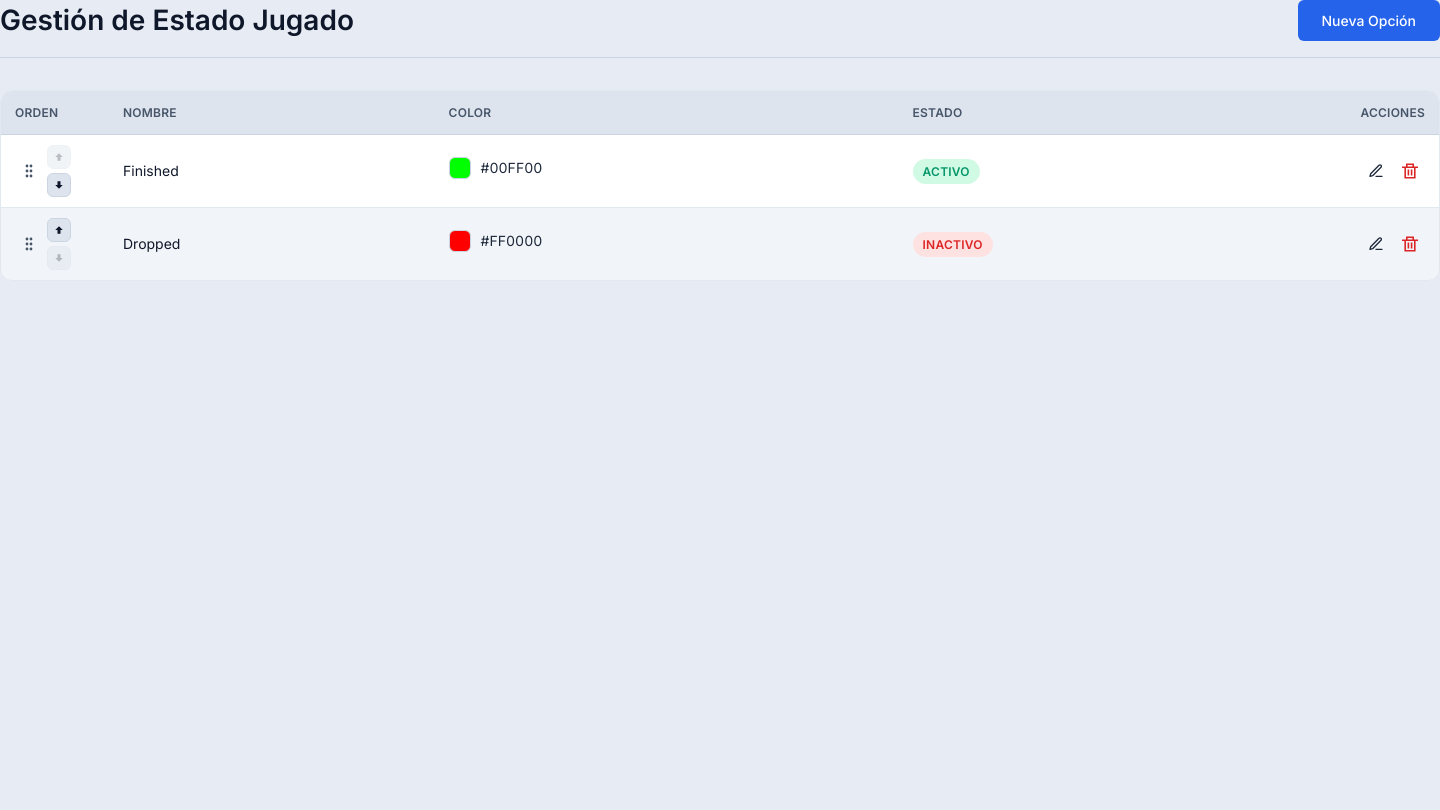
Test: AdminPlayedStatus › opens edit modal with prefilled data
The width and height of the screenshot is (1440, 810).
Click the button named "Editar" in the row of "Finished". click: (1376,171)
box: x1=1361 y1=156 x2=1391 y2=186
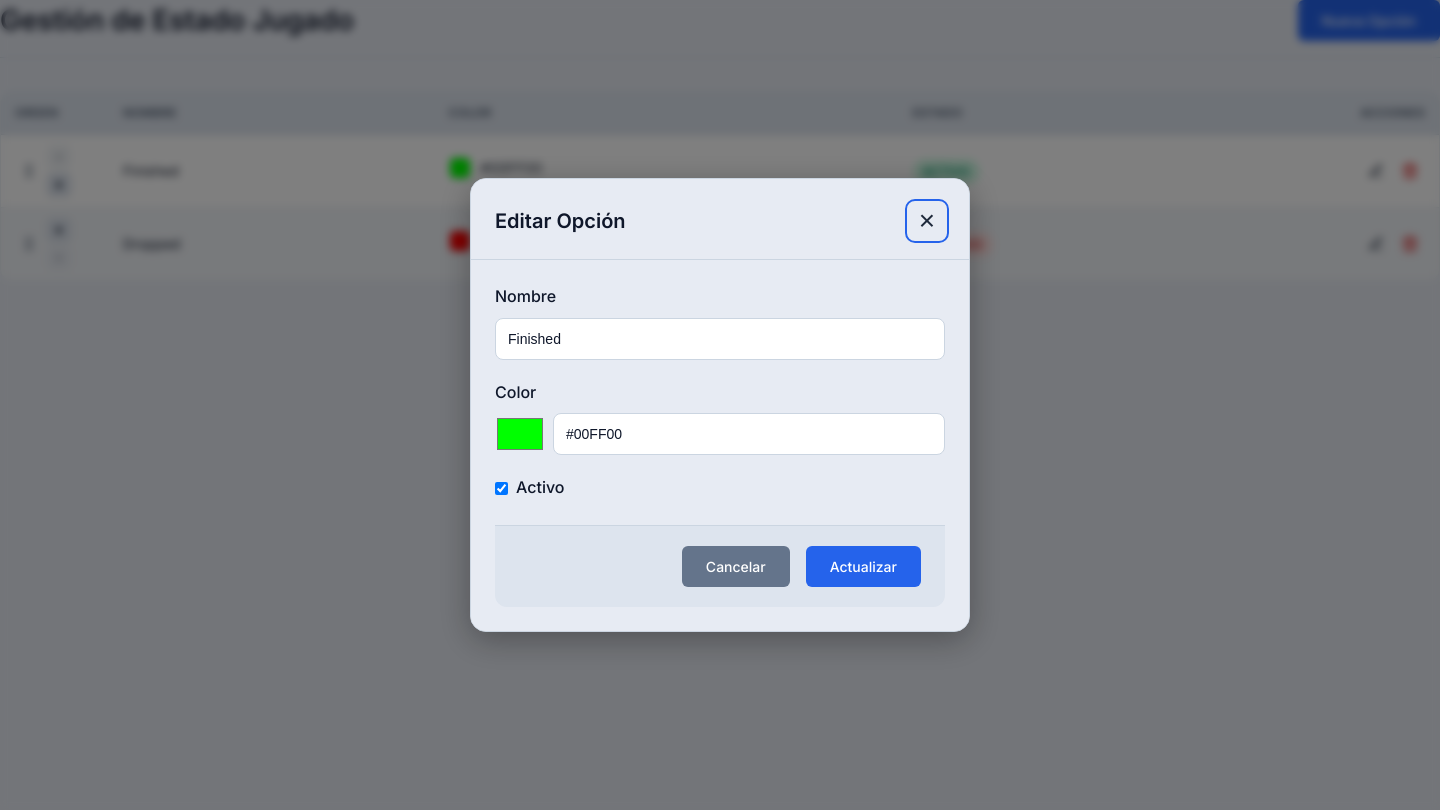
Expected: the field showing "Finished" is shown, x1=495 y1=318 x2=945 y2=360
